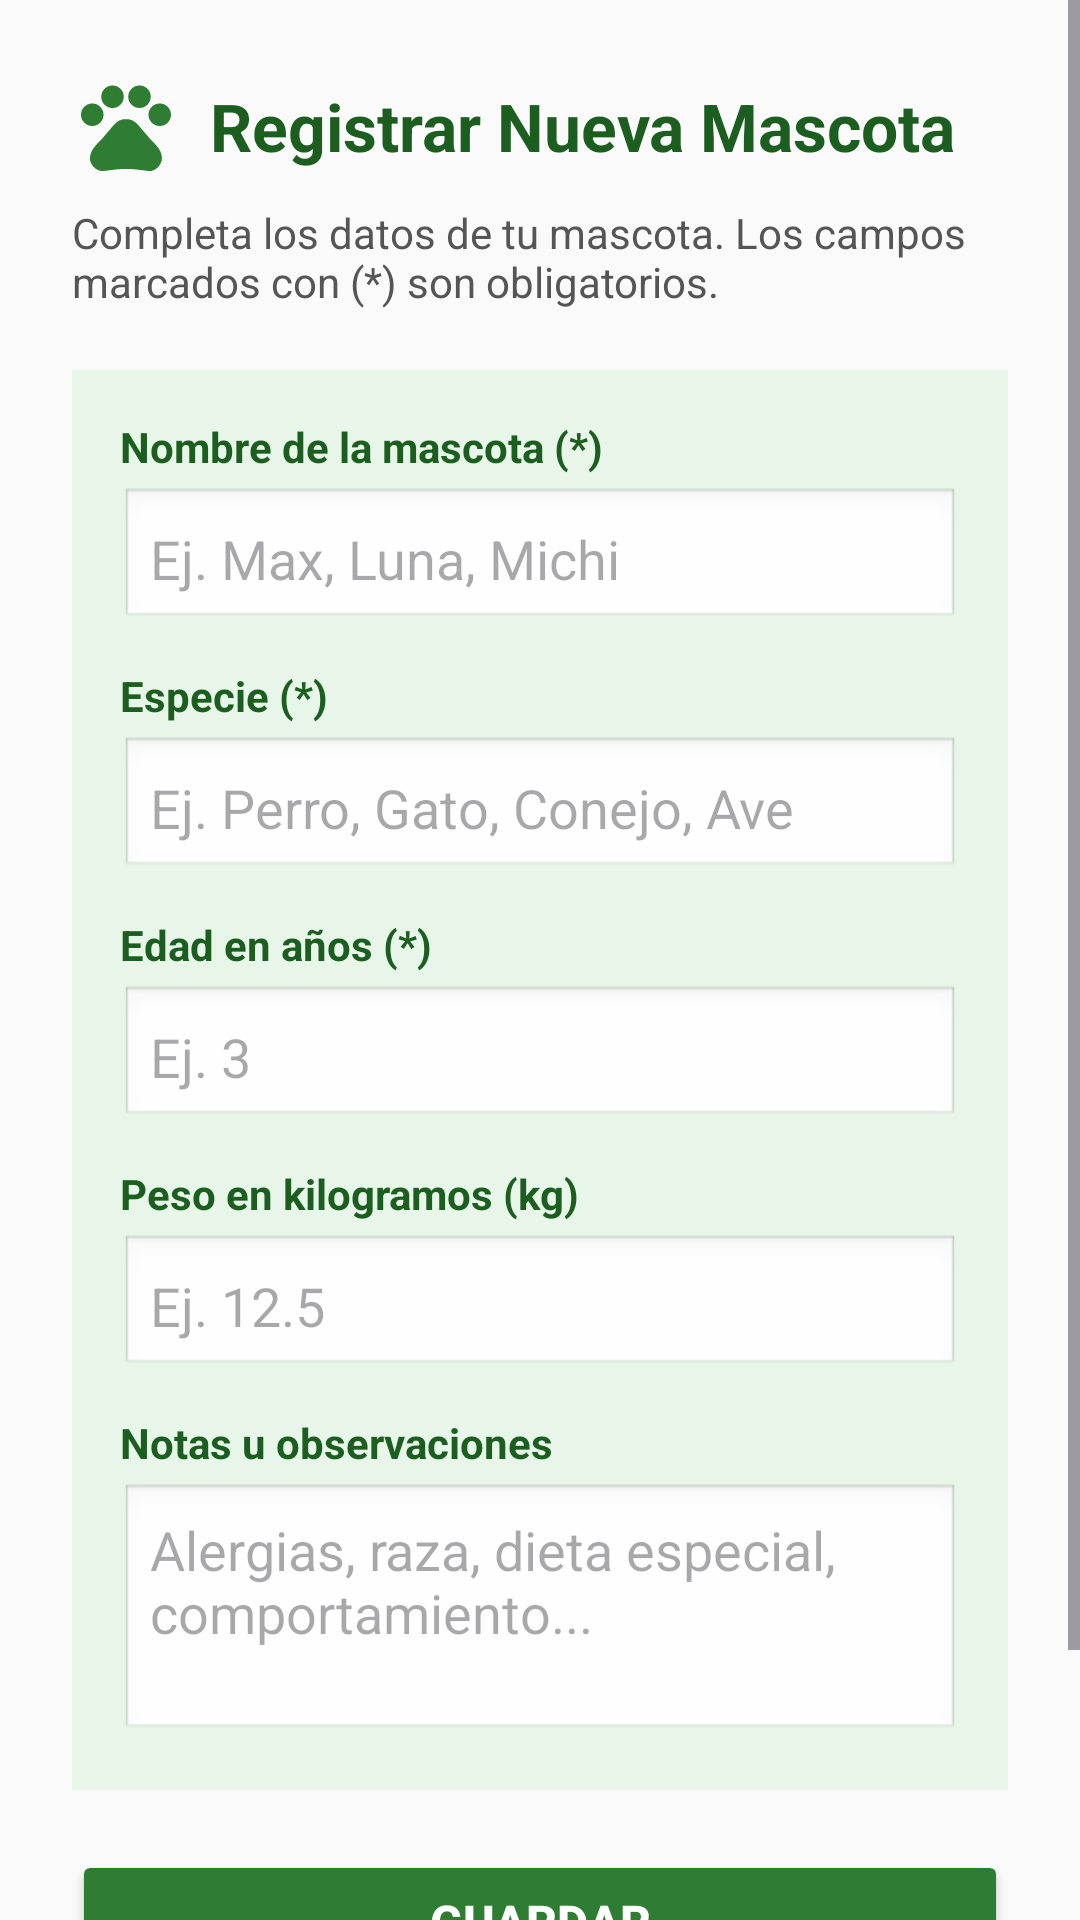

Point at icon controls on the screen. Image size 1080*1920, points as point (x, y).
Icono Agregar Mascota: point (126, 128)
